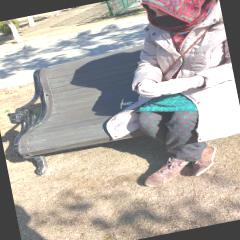gloved: (150, 74, 199, 96), (136, 78, 161, 100)
